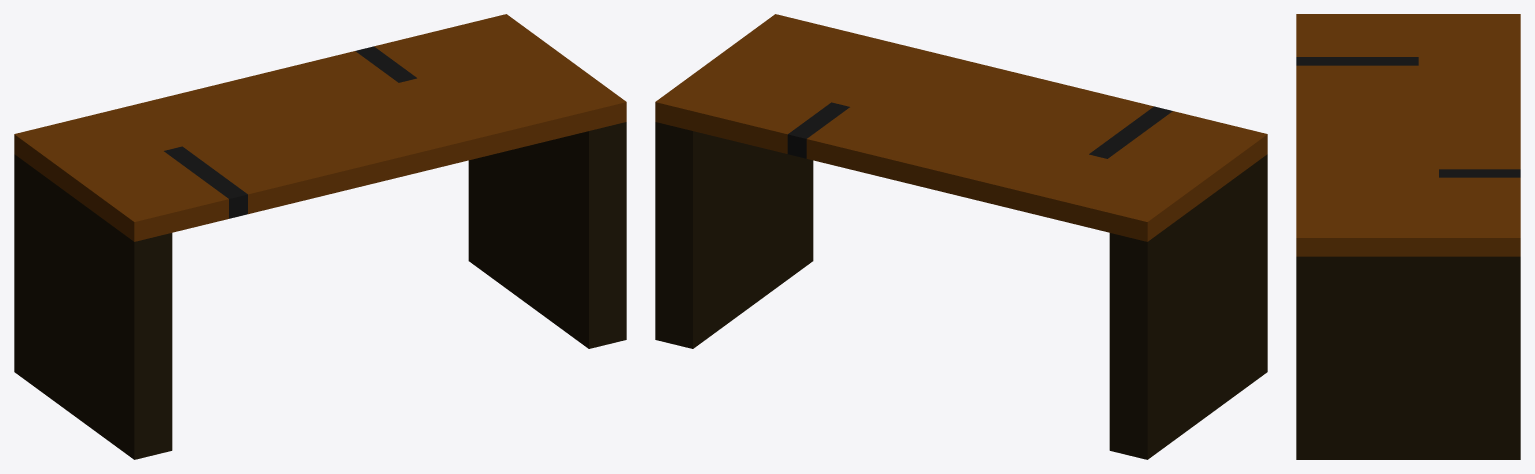
Rendered from Bureau.obj.
The picture shows the model from 3 angles, left to right: view 1: azimuth 30°, elevation 25°; view 2: azimuth 150°, elevation 25°; view 3: azimuth 270°, elevation 25°; orthographic projection. The views are drawn at different scales.
Bounding box in the file's own units: 2.6 × 1.2 × 1.1.
1 material, 1 textured.
